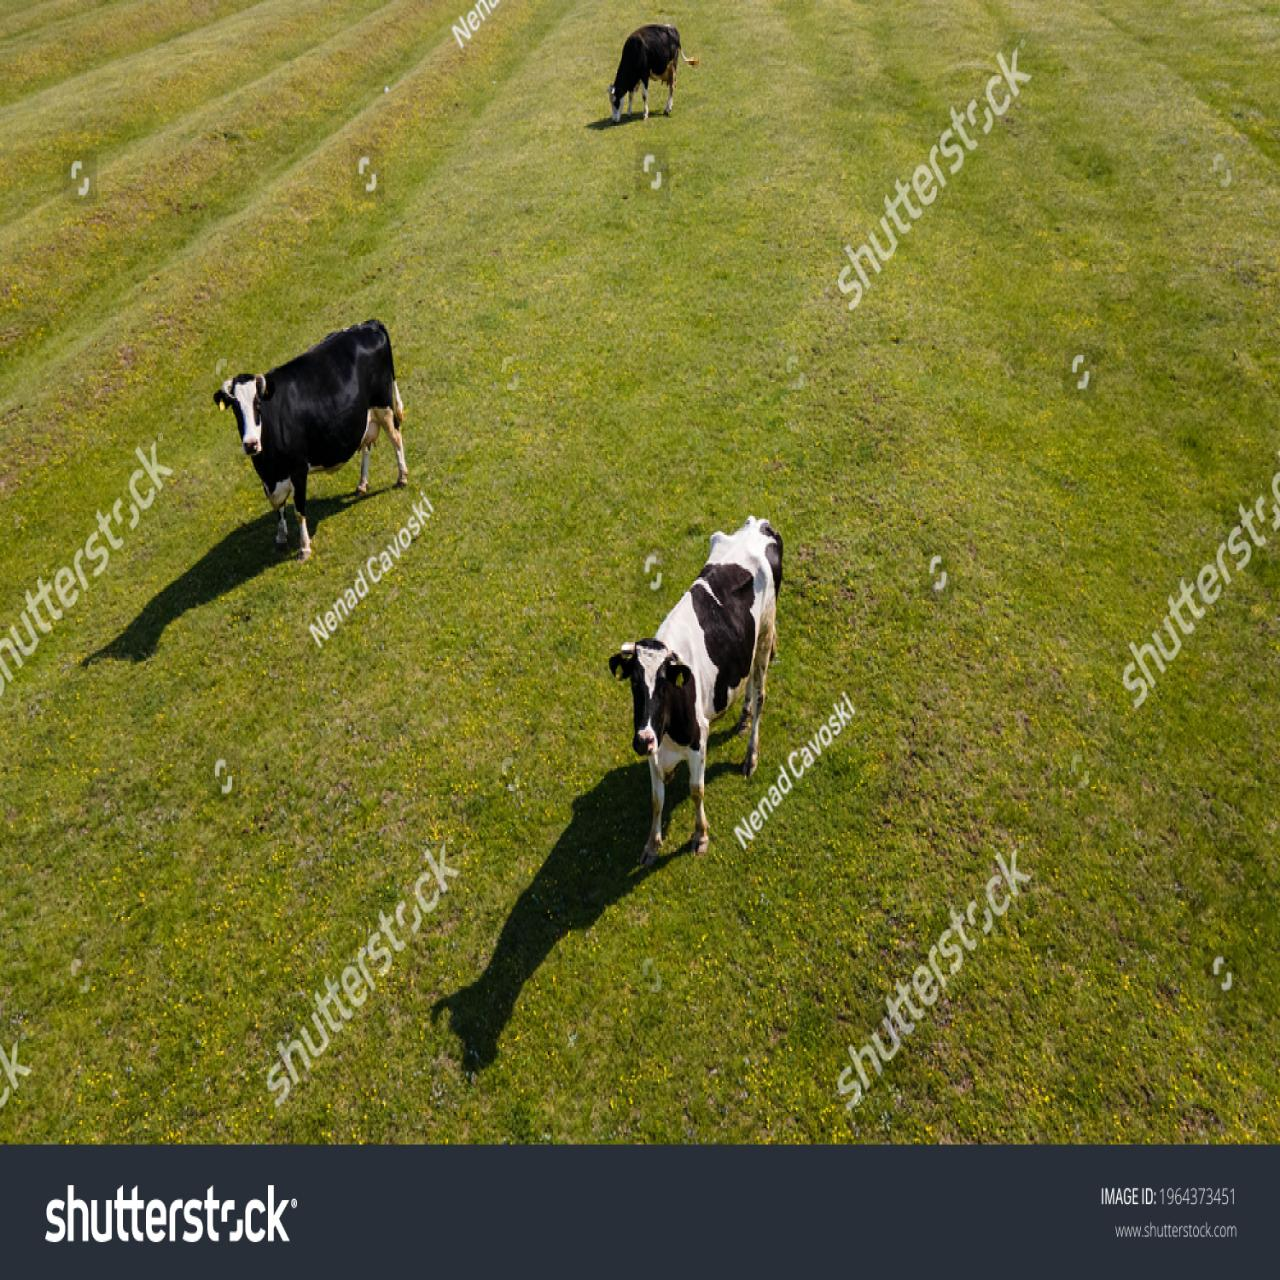cow: (594, 511, 788, 874), (203, 311, 433, 576), (595, 7, 694, 132)
